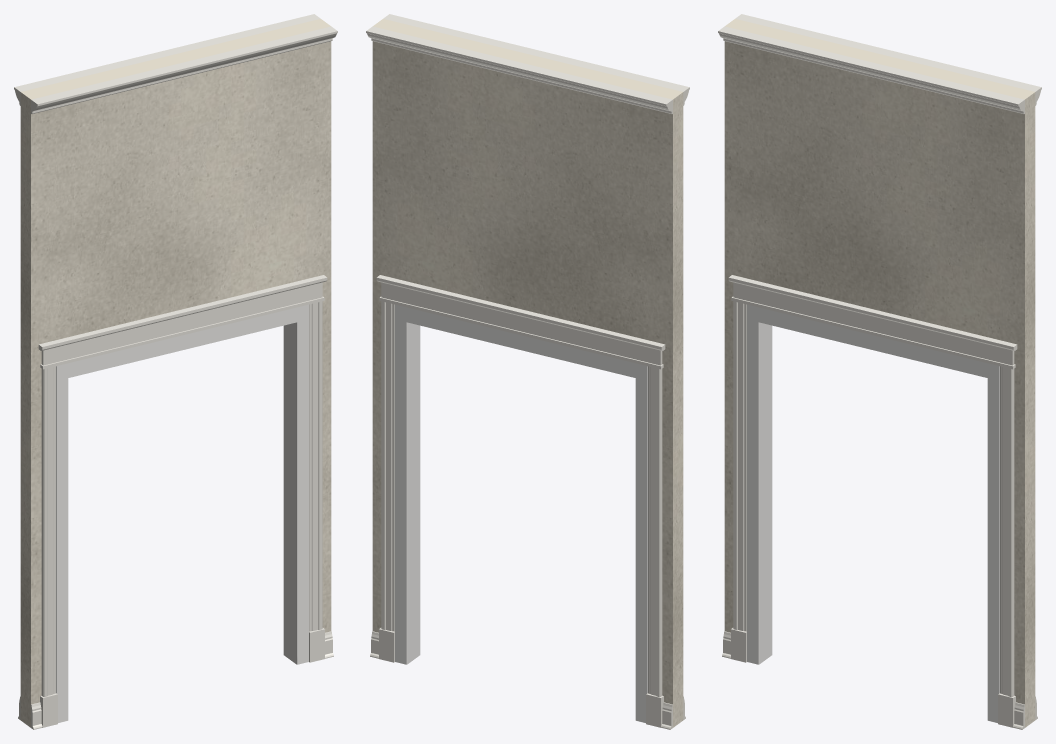
The model's file is interior_wall_wide.glb.
The picture shows the model from 3 angles, left to right: view 1: azimuth 30°, elevation 25°; view 2: azimuth 150°, elevation 25°; view 3: azimuth 330°, elevation 25°; orthographic projection.
Visible parts, largest first — view 1: interior_wall_wide_plaster, molduras, interior_wall_wide_frame; view 2: interior_wall_wide_plaster, molduras, interior_wall_wide_frame; view 3: interior_wall_wide_plaster, molduras, interior_wall_wide_frame.
Boxes of the visible parts, left/top/right/bottom form: interior_wall_wide_plaster: left=20, top=19, right=331, bottom=727; molduras: left=14, top=14, right=337, bottom=729; interior_wall_wide_frame: left=56, top=304, right=308, bottom=722; interior_wall_wide_plaster: left=372, top=19, right=683, bottom=727; molduras: left=366, top=14, right=689, bottom=729; interior_wall_wide_frame: left=395, top=304, right=647, bottom=722; interior_wall_wide_plaster: left=724, top=19, right=1035, bottom=727; molduras: left=718, top=14, right=1041, bottom=729; interior_wall_wide_frame: left=747, top=304, right=999, bottom=722.
Size of the model in its own units: 2 by 4 by 0.27.
3 materials, 1 textured.
